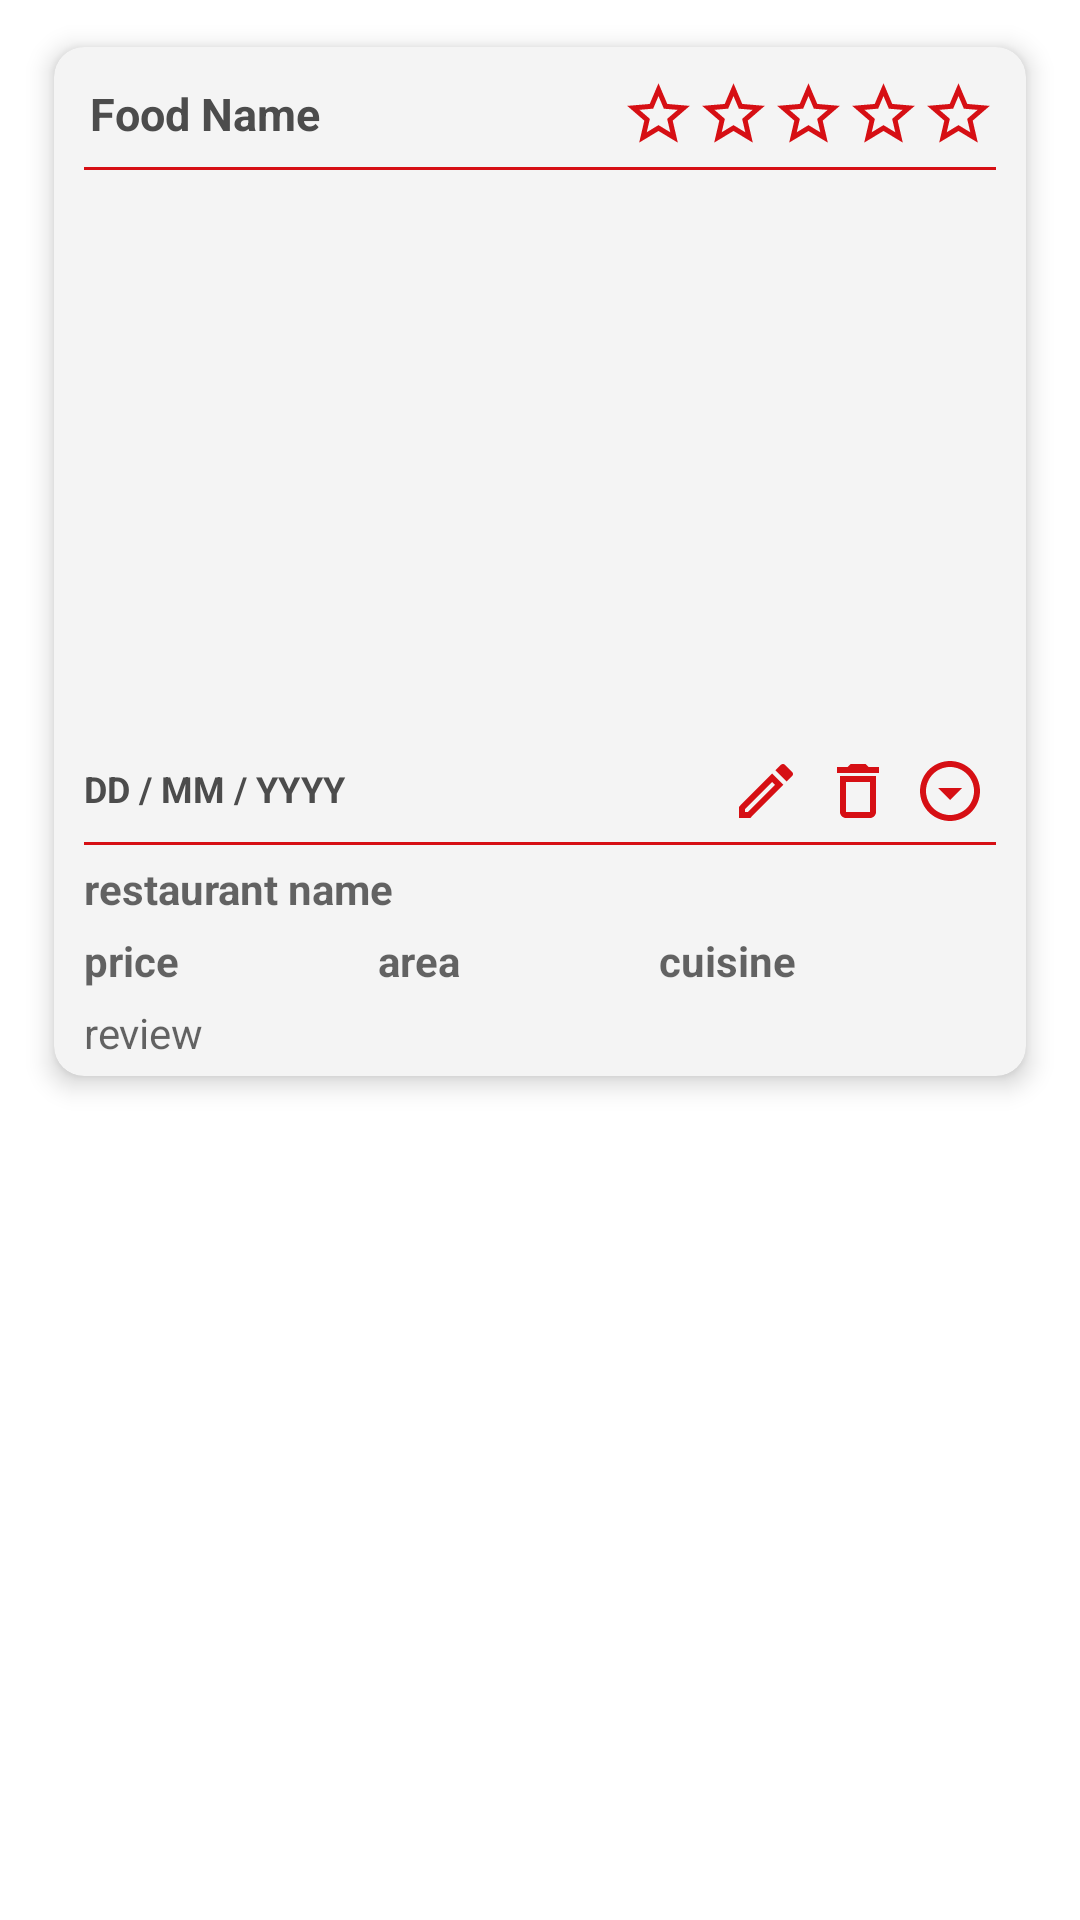

Point at icon controls on the screen. Image size 1080x1920, points as point (x, y).
delete: point (858, 791)
edit: point (766, 791)
more: point (950, 791)
rate star: point (658, 113), point (733, 113), point (808, 113), point (883, 113), point (958, 113)
